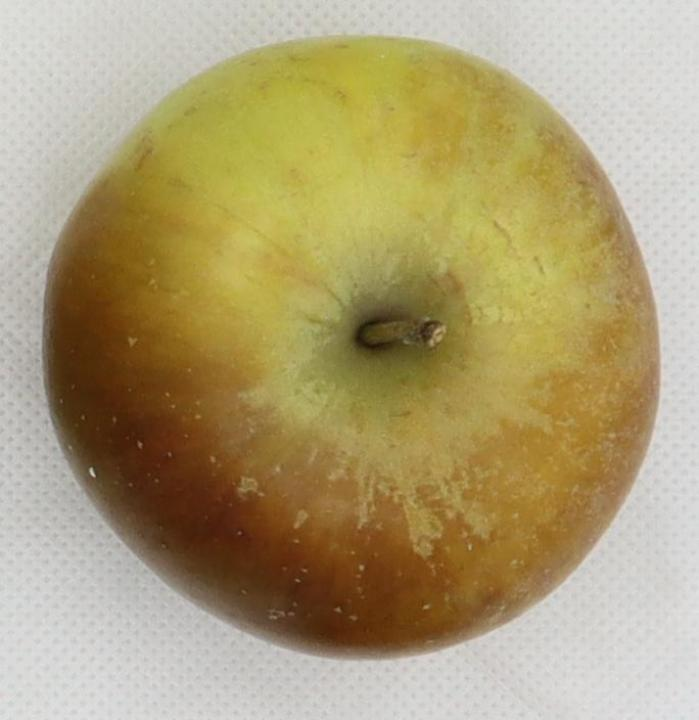apple: (44, 37, 659, 656)
bruise_discoloration: (45, 133, 659, 656)
